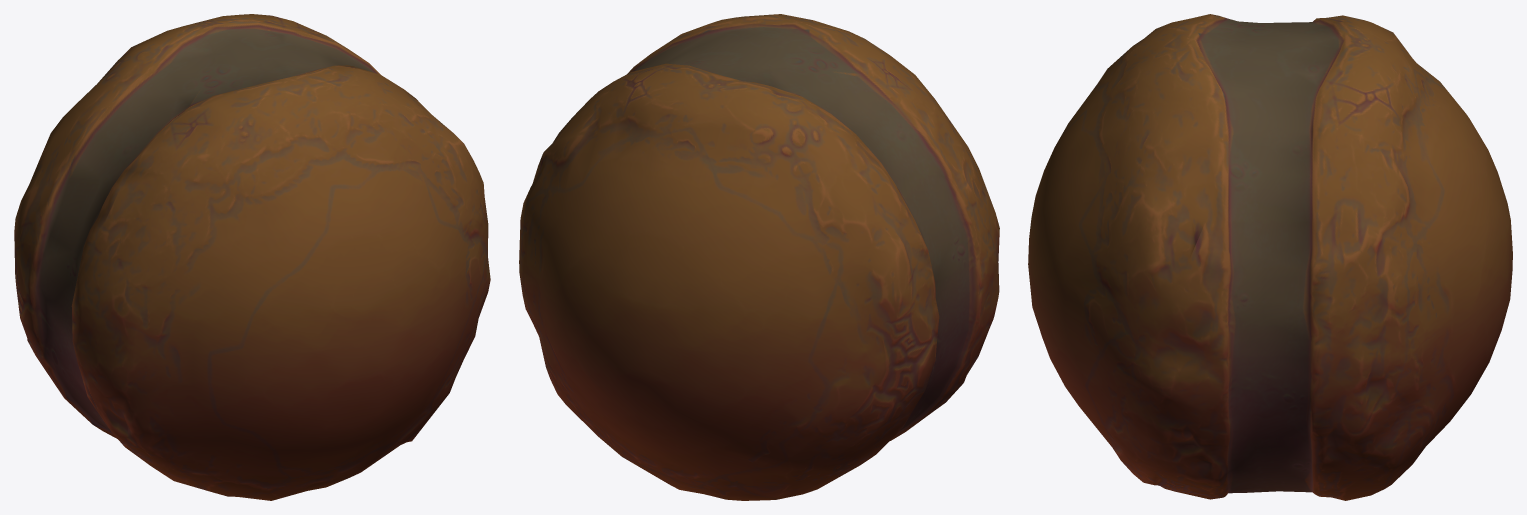
Rendered from World 1.fbx.
3 views of the same model, side by side, from view 1: azimuth 30°, elevation 25°; view 2: azimuth 150°, elevation 25°; view 3: azimuth 270°, elevation 25° (orthographic). The views are drawn at different scales.
Visible parts, largest first — view 1: World-Textured; view 2: World-Textured; view 3: World-Textured.
Part boxes in pixels (box(x1,y1,x2,y2)): World-Textured: box(14, 14, 490, 500); World-Textured: box(519, 14, 999, 500); World-Textured: box(1028, 14, 1512, 500).
Size of the model in its own units: 4959 by 4921 by 4941.
